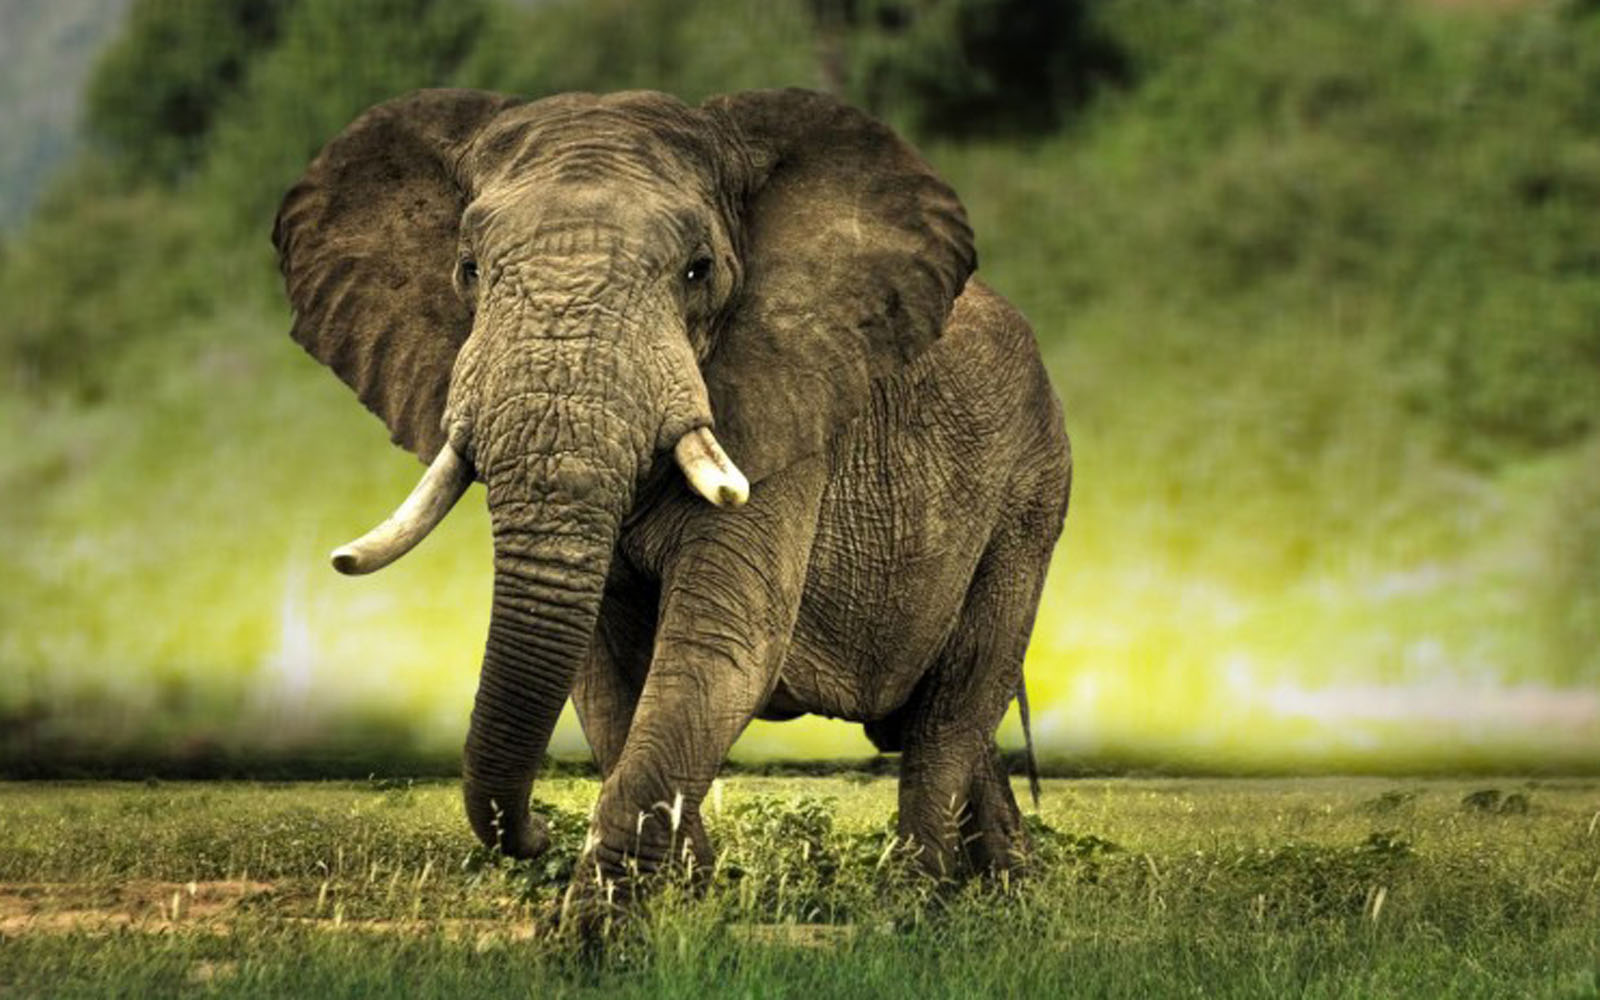africanelephant: (325, 101, 825, 594)
